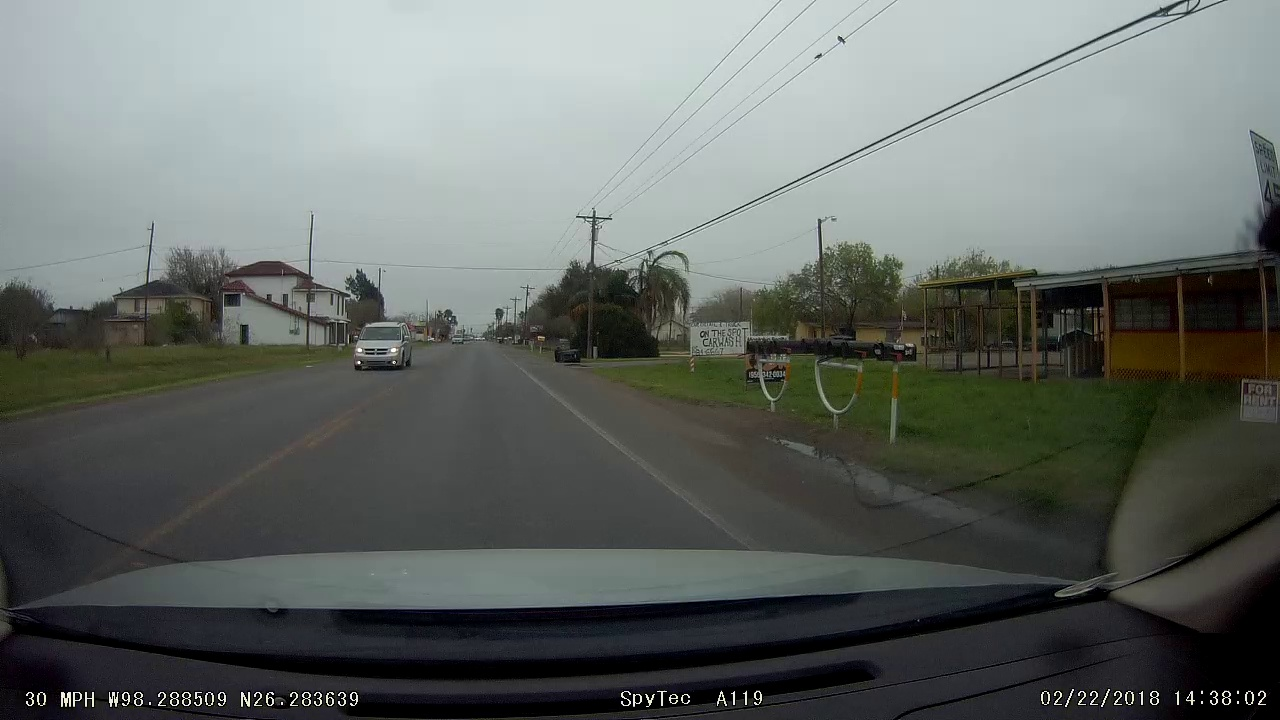blurredLine: (206, 449, 286, 529)
